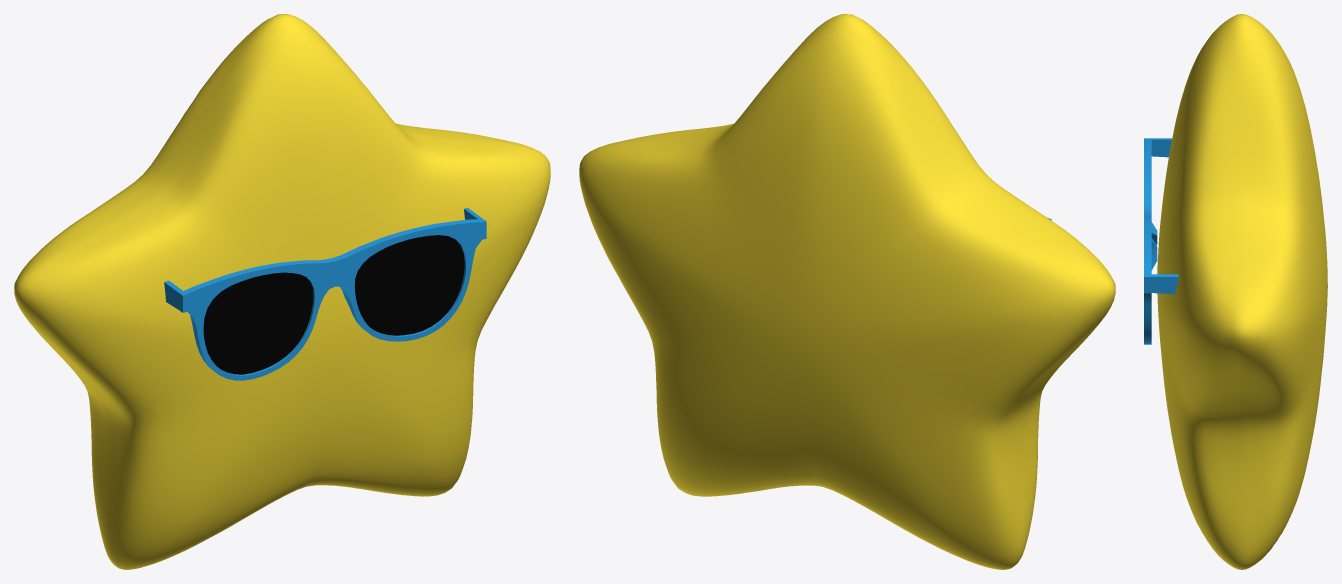
Rendered from star.glb.
3 renders of one model, left to right at view 1: azimuth 30°, elevation 25°; view 2: azimuth 150°, elevation 25°; view 3: azimuth 270°, elevation 25°, orthographic. The views are drawn at different scales.
Visible parts, largest first — view 1: star; view 2: star; view 3: star.
Boxes of the visible parts, x1=… form: star: x1=14, y1=14, x2=550, y2=569; star: x1=579, y1=14, x2=1115, y2=569; star: x1=1144, y1=14, x2=1327, y2=569.
Bounding box in the file's own units: 0.2278 × 0.2113 × 0.073.
